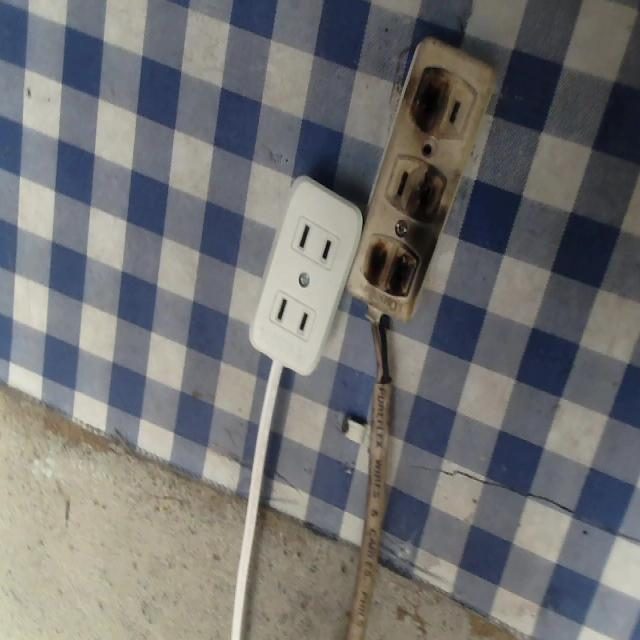-: (364, 234, 424, 318), (409, 60, 447, 137), (410, 162, 446, 230)
